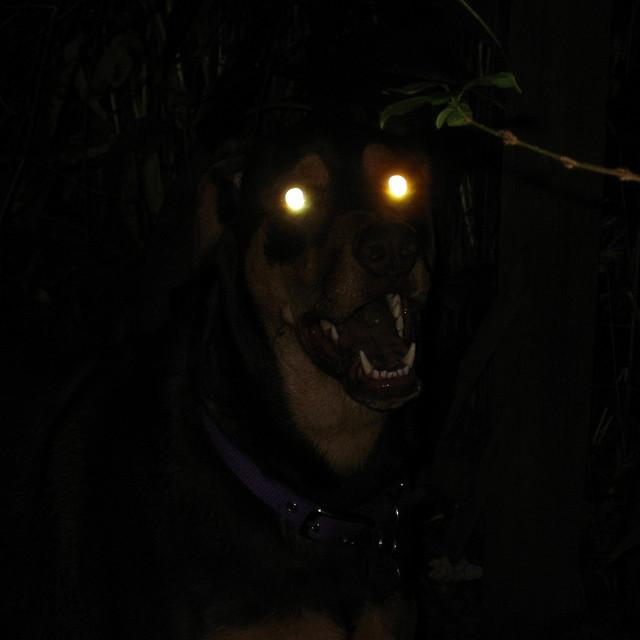dog: (215, 93, 456, 571)
